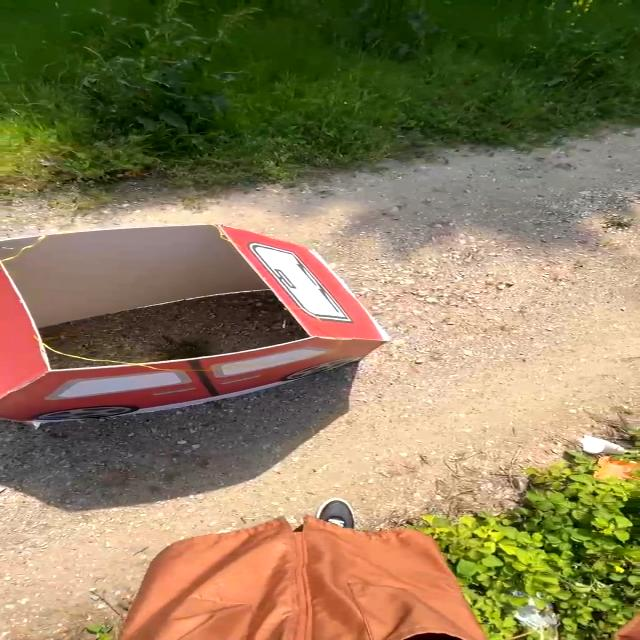red_car: (0, 208, 414, 444)
